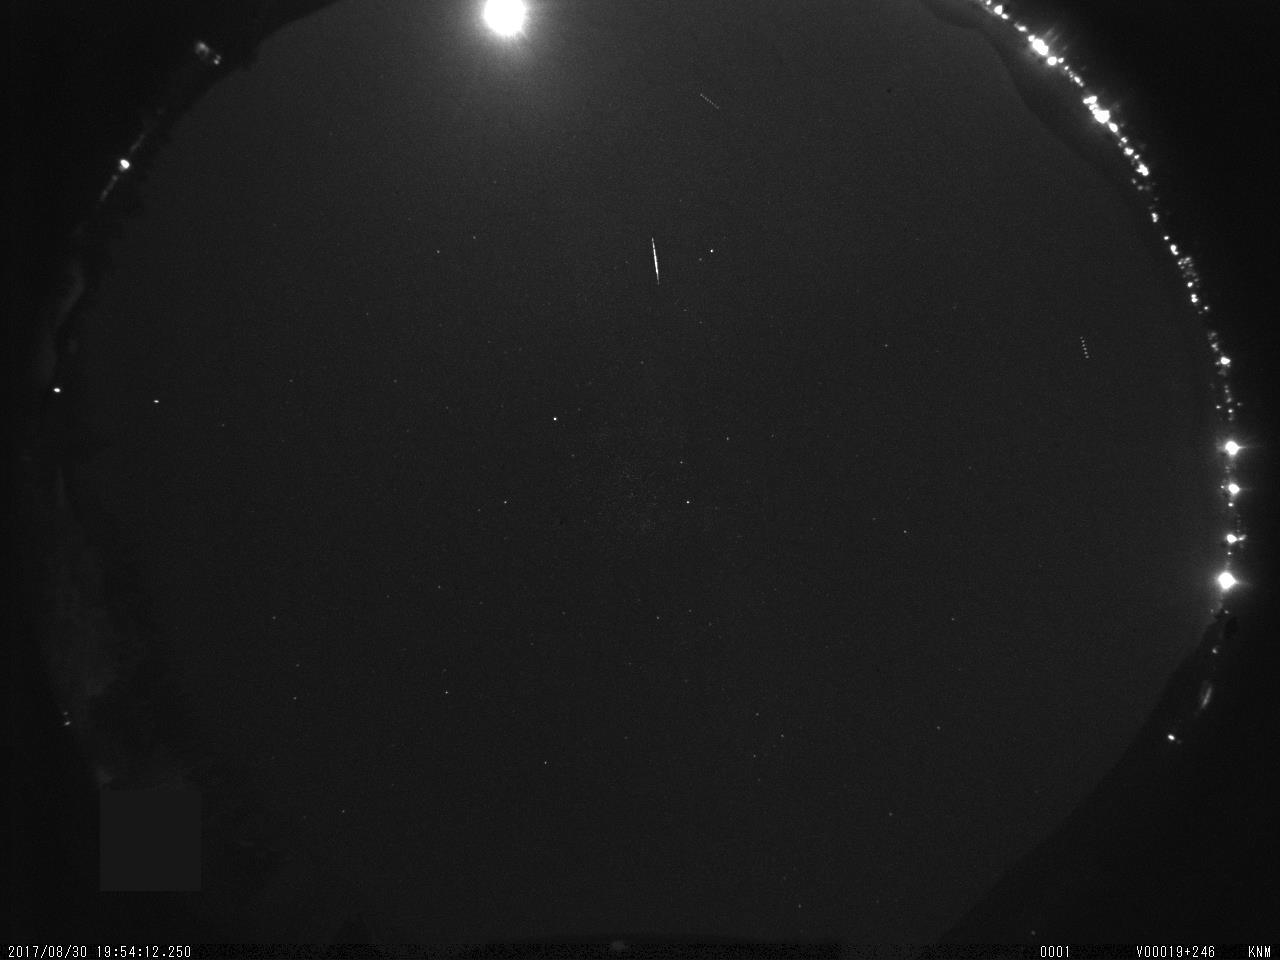meteor: (642, 235, 671, 284)
